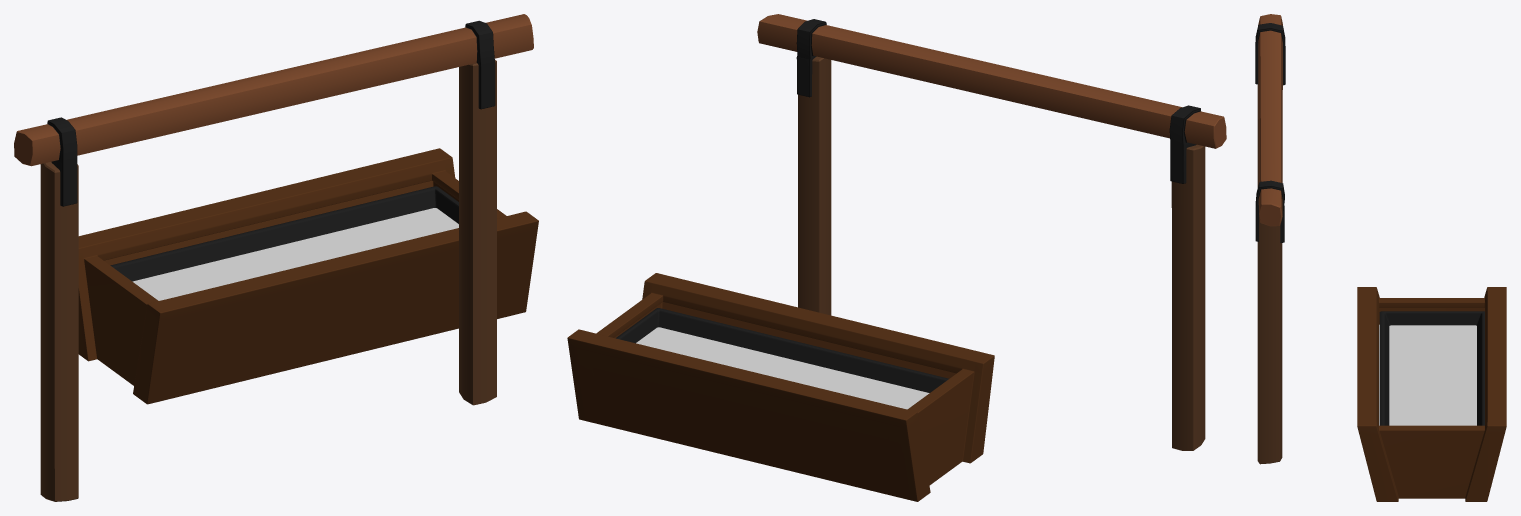
File: WaterTrough_models.fbx
3 views of the same model, side by side, from view 1: azimuth 30°, elevation 25°; view 2: azimuth 150°, elevation 25°; view 3: azimuth 270°, elevation 25° (orthographic). The views are drawn at different scales.
Visible parts, largest first — view 1: WaterTrough, HorsePost, Water; view 2: WaterTrough, HorsePost, Water; view 3: WaterTrough, HorsePost, Water.
Boxes of the visible parts, box(x1,y1,x2,y2) form: WaterTrough: box(78, 148, 538, 404); HorsePost: box(14, 14, 533, 501); Water: box(132, 208, 458, 300); WaterTrough: box(567, 273, 994, 501); HorsePost: box(757, 14, 1226, 450); Water: box(636, 327, 929, 409); WaterTrough: box(1357, 287, 1506, 501); HorsePost: box(1255, 14, 1285, 464); Water: box(1379, 324, 1476, 425).
Size of the model in its own units: 16.6 by 10.38 by 8.34.
